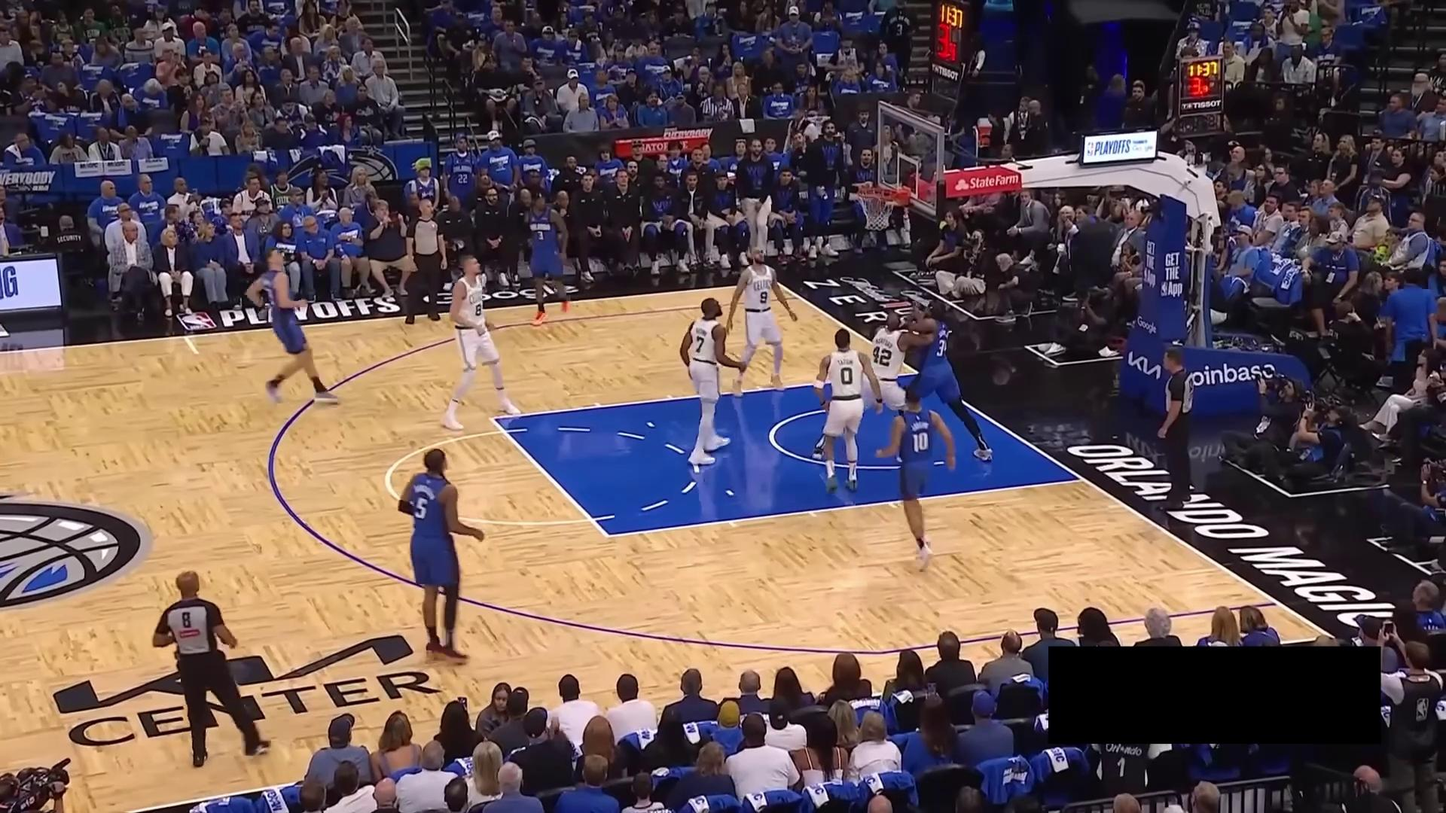ball: (867, 196, 885, 215)
ball-in-basket: (853, 185, 899, 230)
number: (872, 346, 892, 367), (912, 431, 929, 453), (414, 497, 428, 519), (840, 367, 853, 385), (694, 335, 705, 353), (937, 339, 947, 357), (758, 290, 768, 304), (474, 303, 483, 317), (536, 230, 545, 242)
player: (811, 311, 940, 461), (397, 447, 485, 665), (898, 297, 994, 463), (874, 385, 957, 574), (244, 245, 341, 406), (439, 254, 522, 433), (679, 297, 749, 466), (814, 327, 884, 495), (726, 247, 799, 399), (522, 190, 571, 327)
referee: (152, 570, 273, 767), (1155, 347, 1196, 510), (403, 196, 447, 324)
rim: (853, 186, 898, 201)
